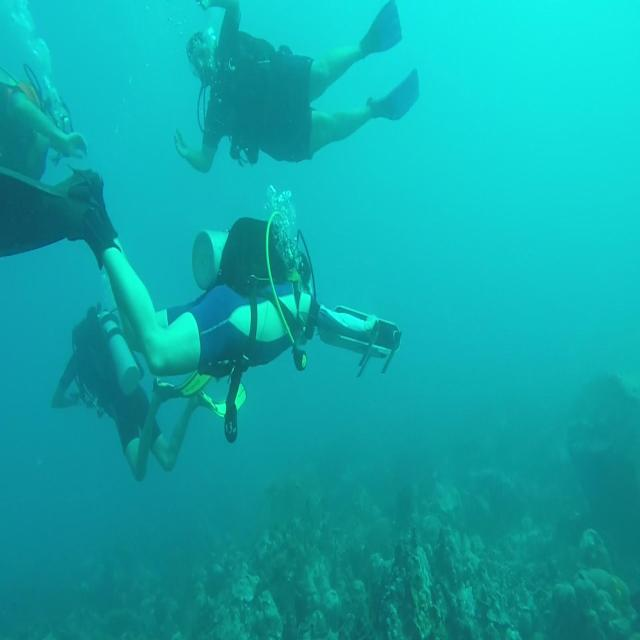human: (173, 0, 420, 174), (191, 210, 402, 379), (51, 300, 210, 482), (1, 50, 93, 194)
